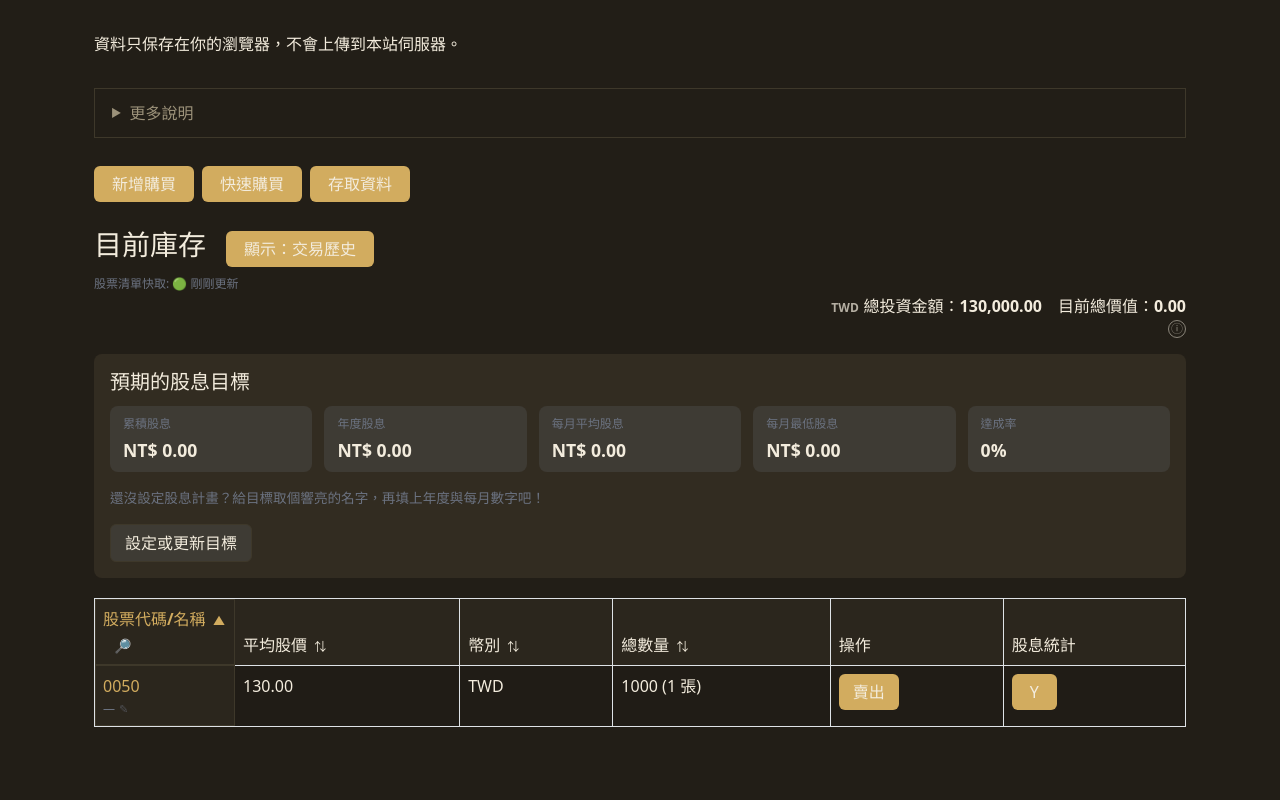
Scenario: InventoryTab interactions › Finding 5: connectAndSyncDrive does not get stuck on "connecting" when clicked during demo mode
The width and height of the screenshot is (1280, 800).
Expected: the button "顯示：交易歷史" is shown, top-left (226, 231), bottom-right (374, 267)
Click the button "存取資料": [360, 184] box top-left (310, 166), bottom-right (410, 202)
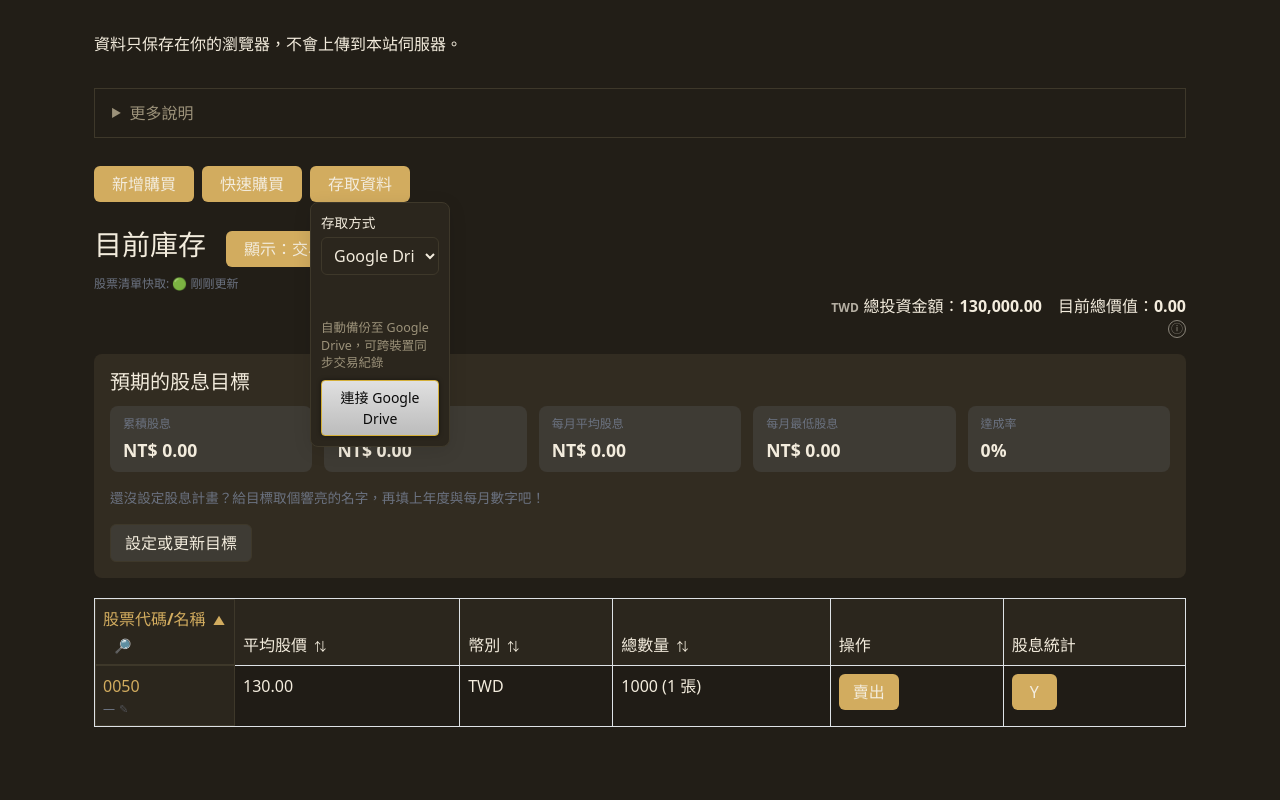
Click the button "連接 Google Drive": [380, 408] box top-left (321, 380), bottom-right (439, 436)
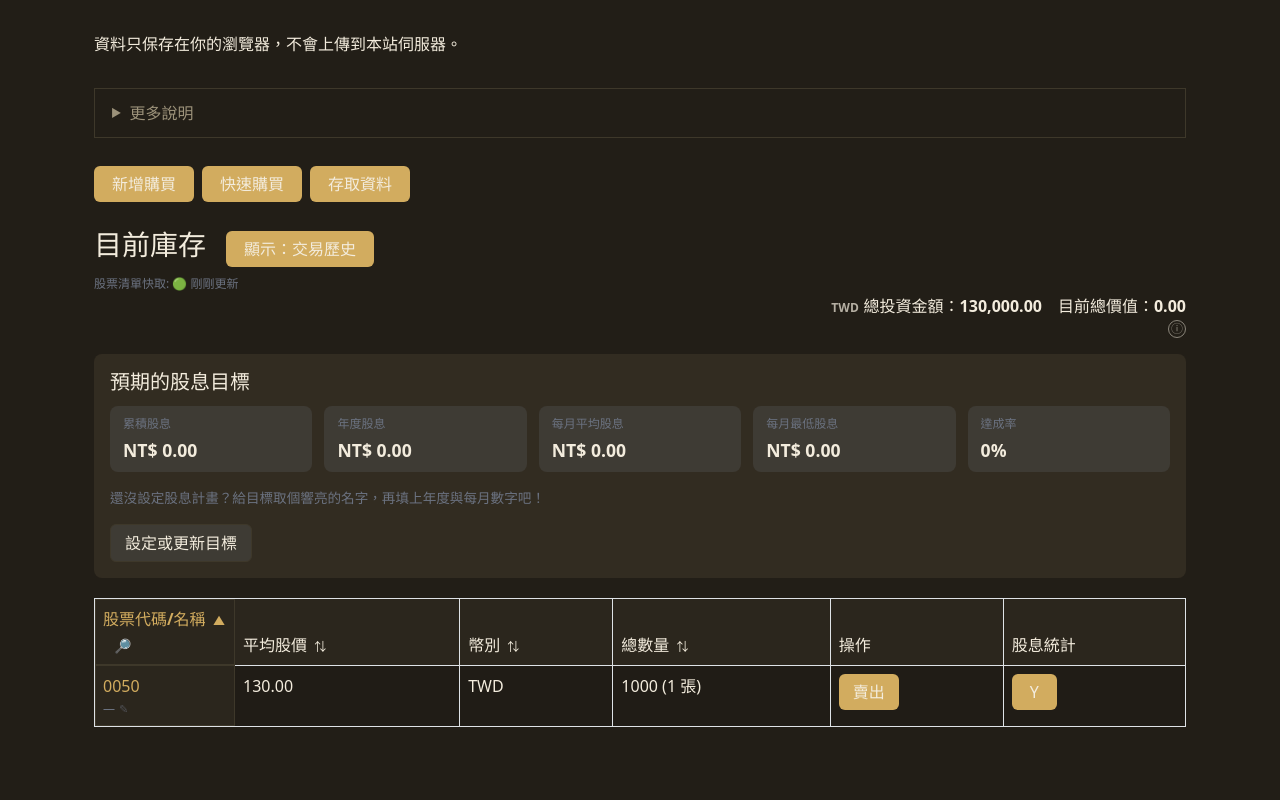
Click the button "存取資料": [360, 184] box top-left (310, 166), bottom-right (410, 202)
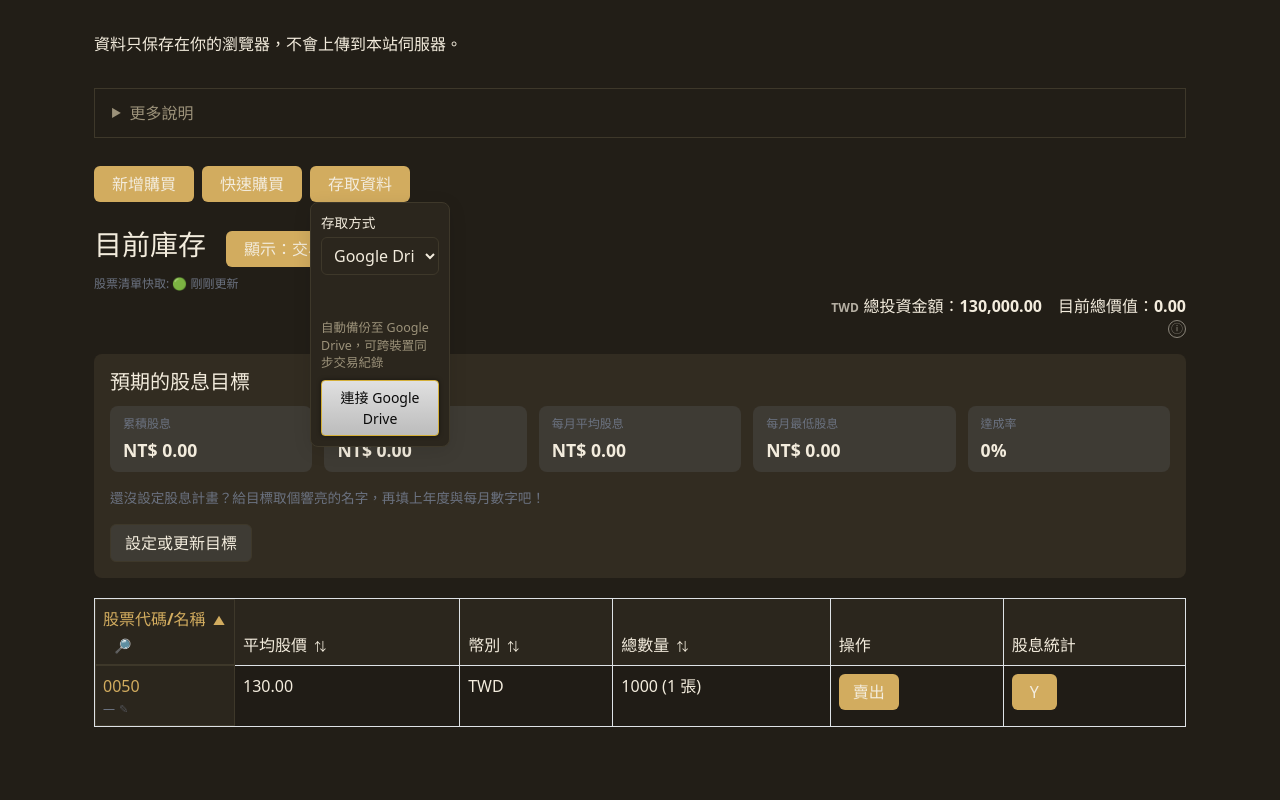
Expected: the button "連接 Google Drive" is shown, top-left (321, 380), bottom-right (439, 436)
